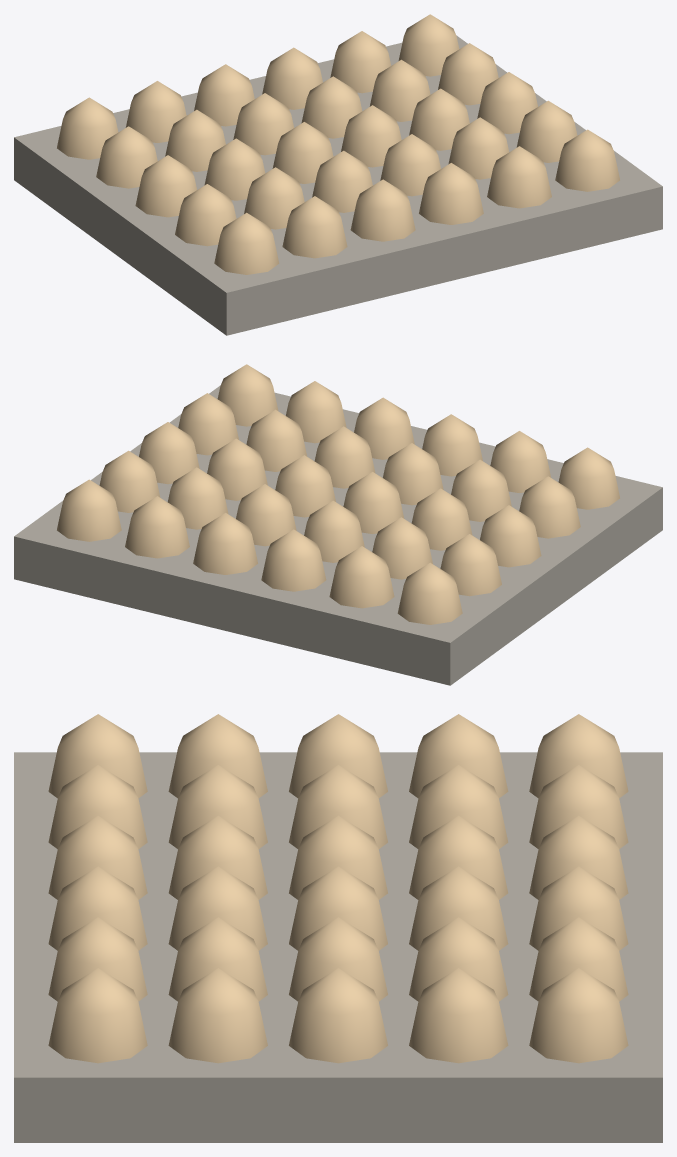
File: egg_tray.glb
3 views of the same model, one above another, from view 1: azimuth 30°, elevation 25°; view 2: azimuth 150°, elevation 25°; view 3: azimuth 270°, elevation 25° (orthographic). The views are drawn at different scales.
Visible parts, largest first — view 1: egg_tray; view 2: egg_tray; view 3: egg_tray.
Boxes of the visible parts, box(x1,y1,x2,y2) form: egg_tray: box(14, 14, 662, 335); egg_tray: box(14, 364, 662, 685); egg_tray: box(14, 714, 662, 1142).
Size of the model in its own units: 0.32 by 0.064 by 0.27.
